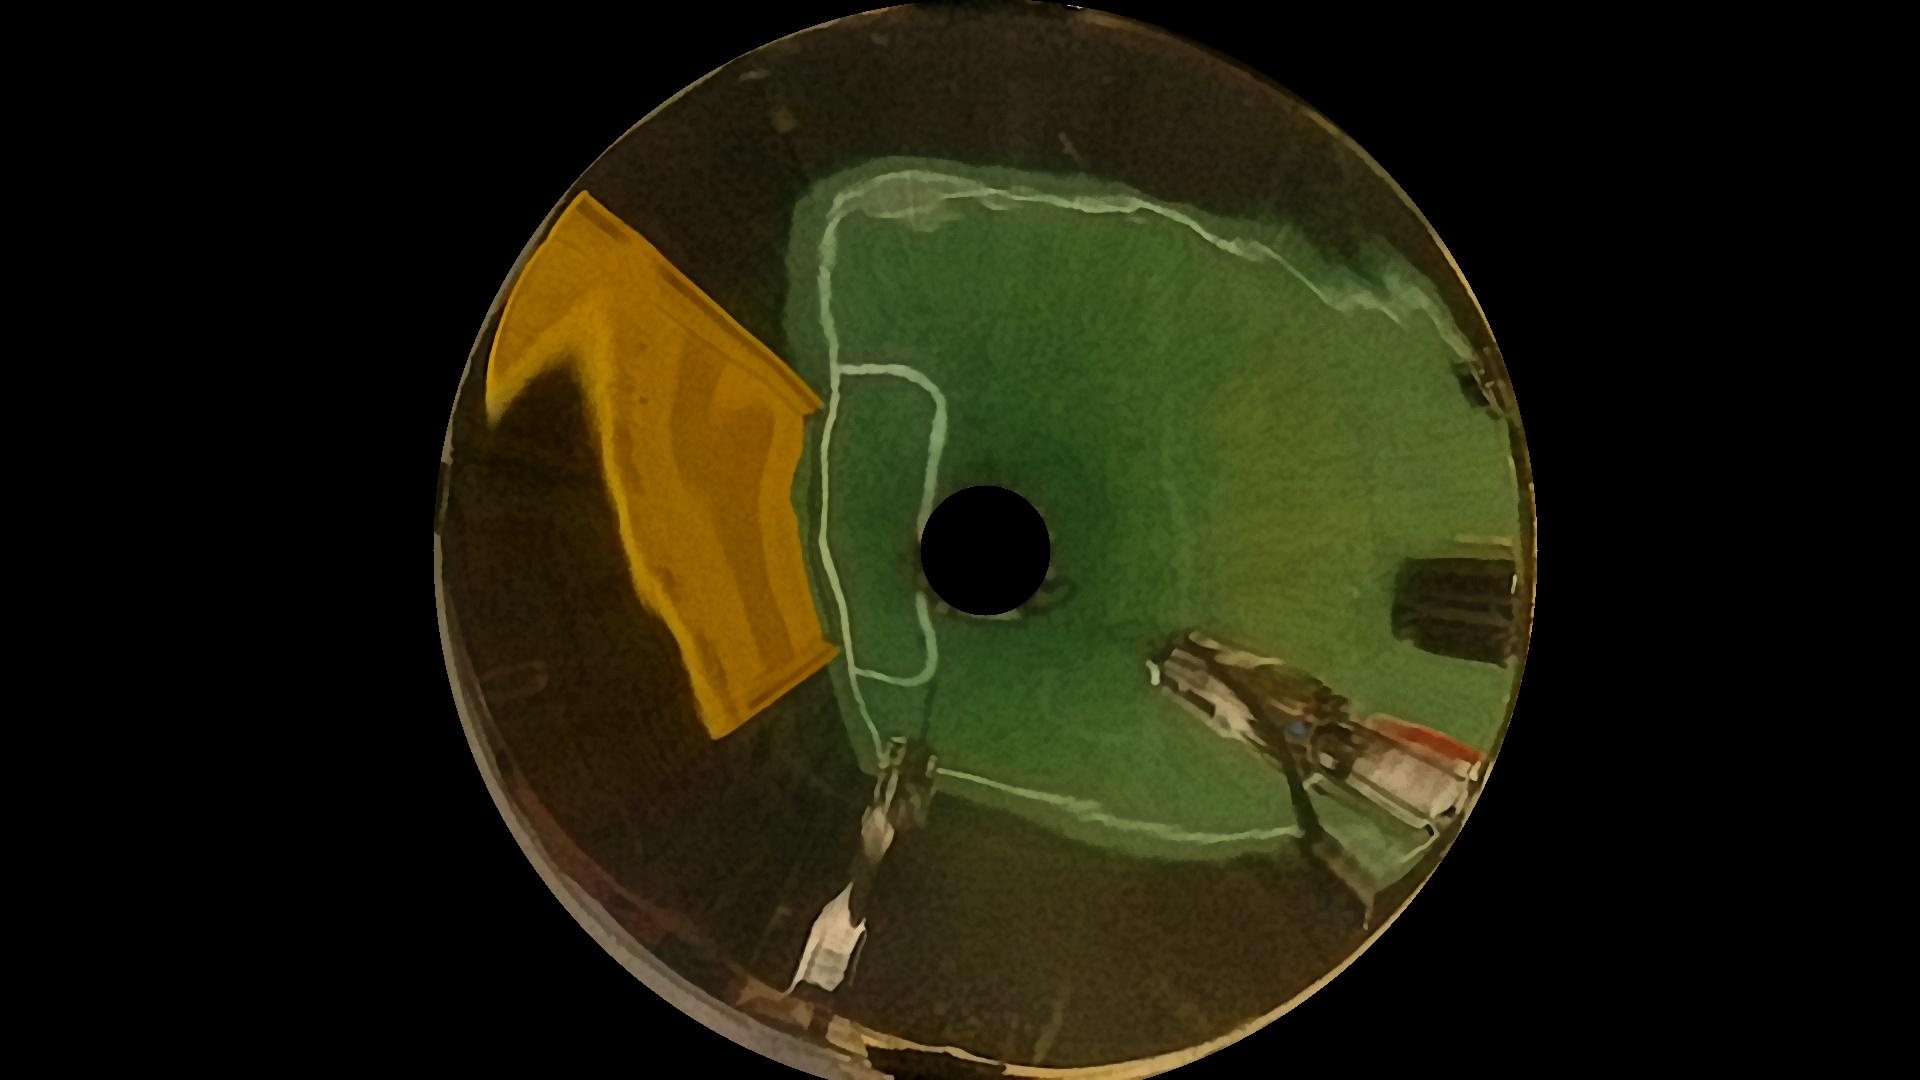robots: (1168, 625, 1455, 855), (822, 733, 930, 967), (1380, 543, 1533, 663), (1455, 345, 1515, 420)
yellow-goal: (523, 222, 845, 755)
